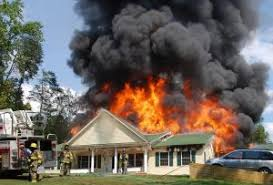smoke: (90, 1, 244, 76)
